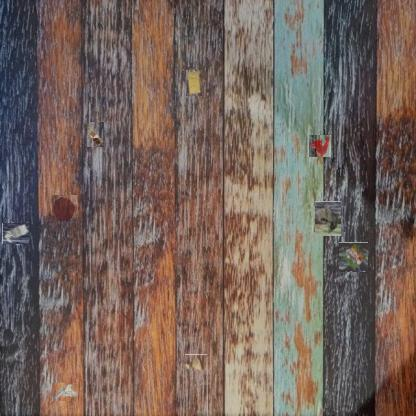dirty: (313, 204, 344, 234), (339, 242, 368, 272), (3, 221, 28, 246), (86, 122, 104, 148), (52, 383, 78, 401), (186, 70, 202, 96), (186, 354, 208, 371)
liquid: (52, 195, 78, 223), (309, 135, 331, 157)
